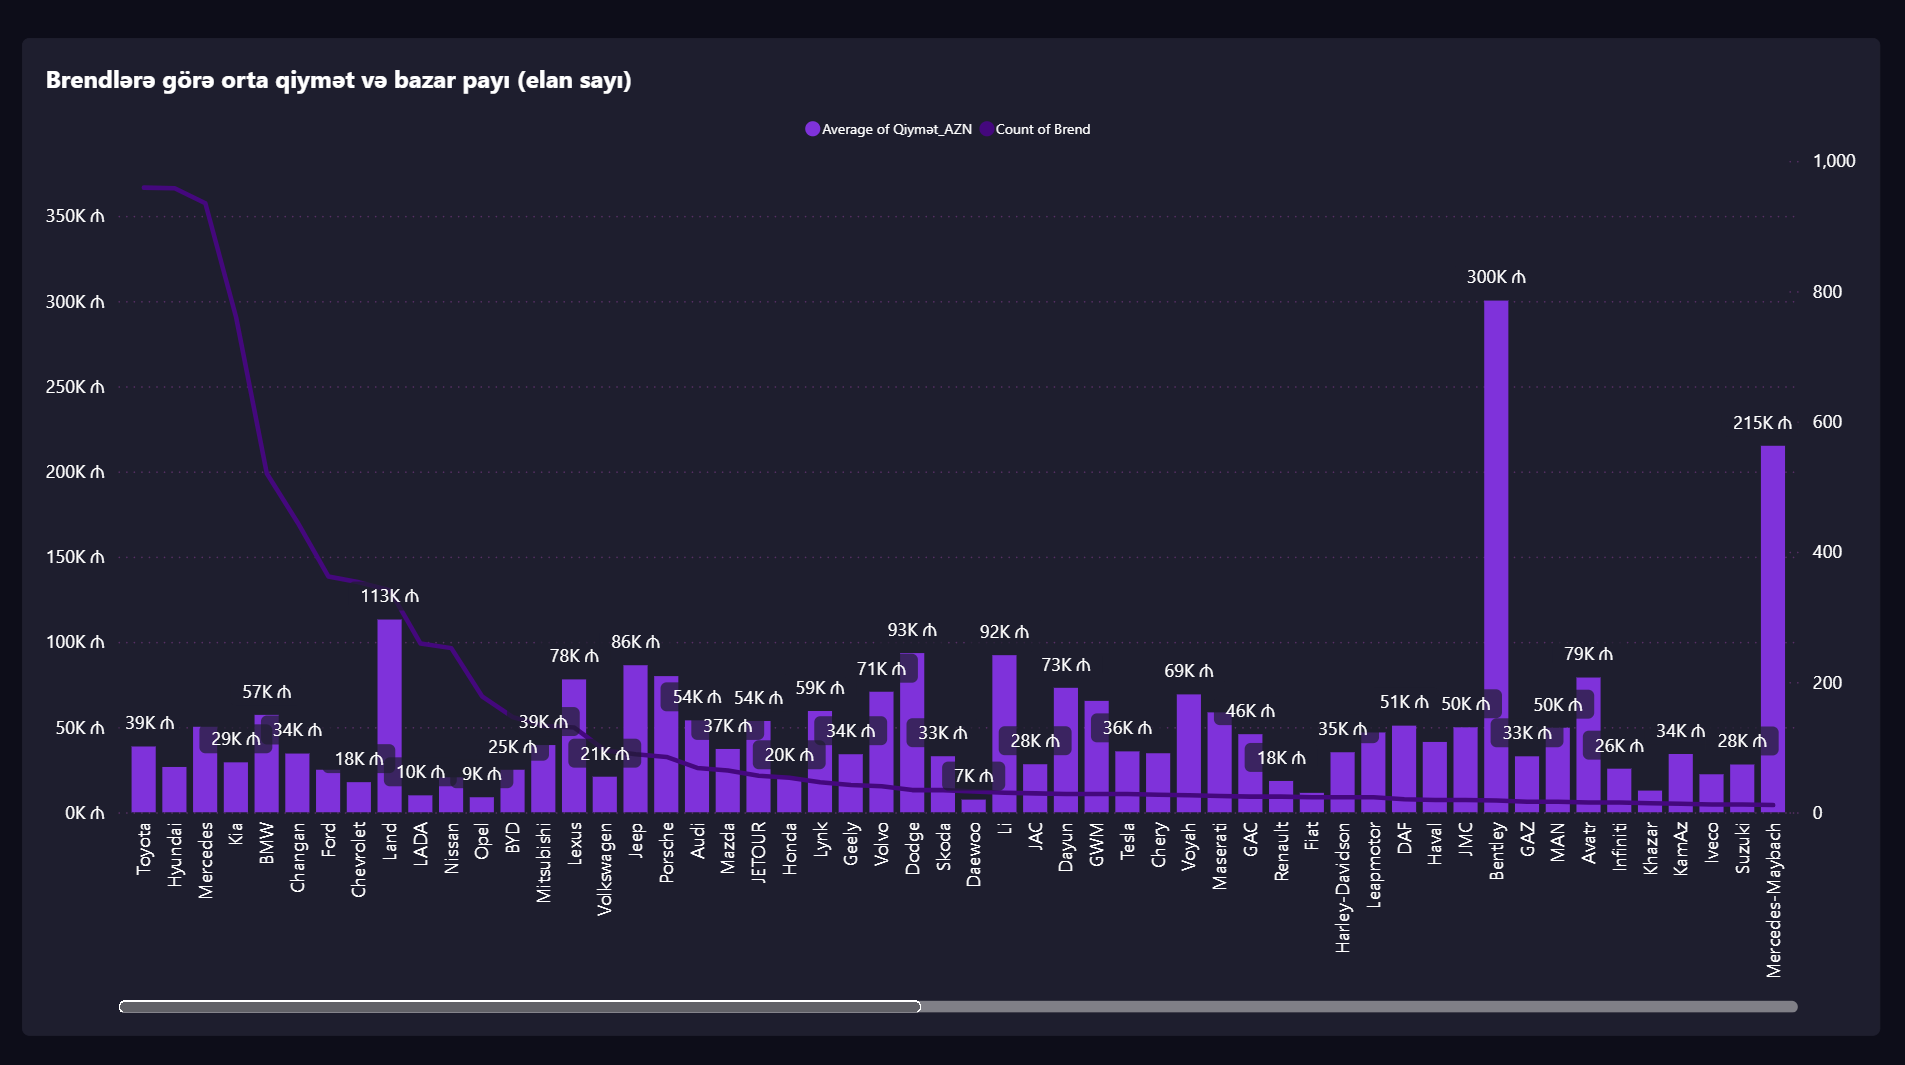

The dashboard page shown, as its layout file describes it:
{"tool":"powerbi","page":{"name":"Page 2","canvas":[1280,720],"ordinal":1},"visuals":[{"type":"lineClusteredColumnComboChart","title":"Brendlərə görə orta qiymət və bazar payı (elan sayı)","fields":{"Category":["data csv.Brend"],"Y":["Avg(data csv.Qiymət_AZN)"],"Y2":["CountNonNull(data csv.Brend)"]},"box":[23.9,30.5,1231.8,661.7],"z":0}]}

Visuals, with their boxes in screenshot pixels (x1, y1, x2, y2), scaled from the page's 1280x720 canvas onto the 1905x1065 screenshot:
"Brendlərə görə orta qiymət və bazar payı (elan sayı)" lineClusteredColumnComboChart: left=36, top=45, right=1869, bottom=1024
